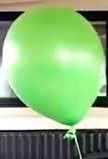Balloon: (2, 6, 104, 125)
